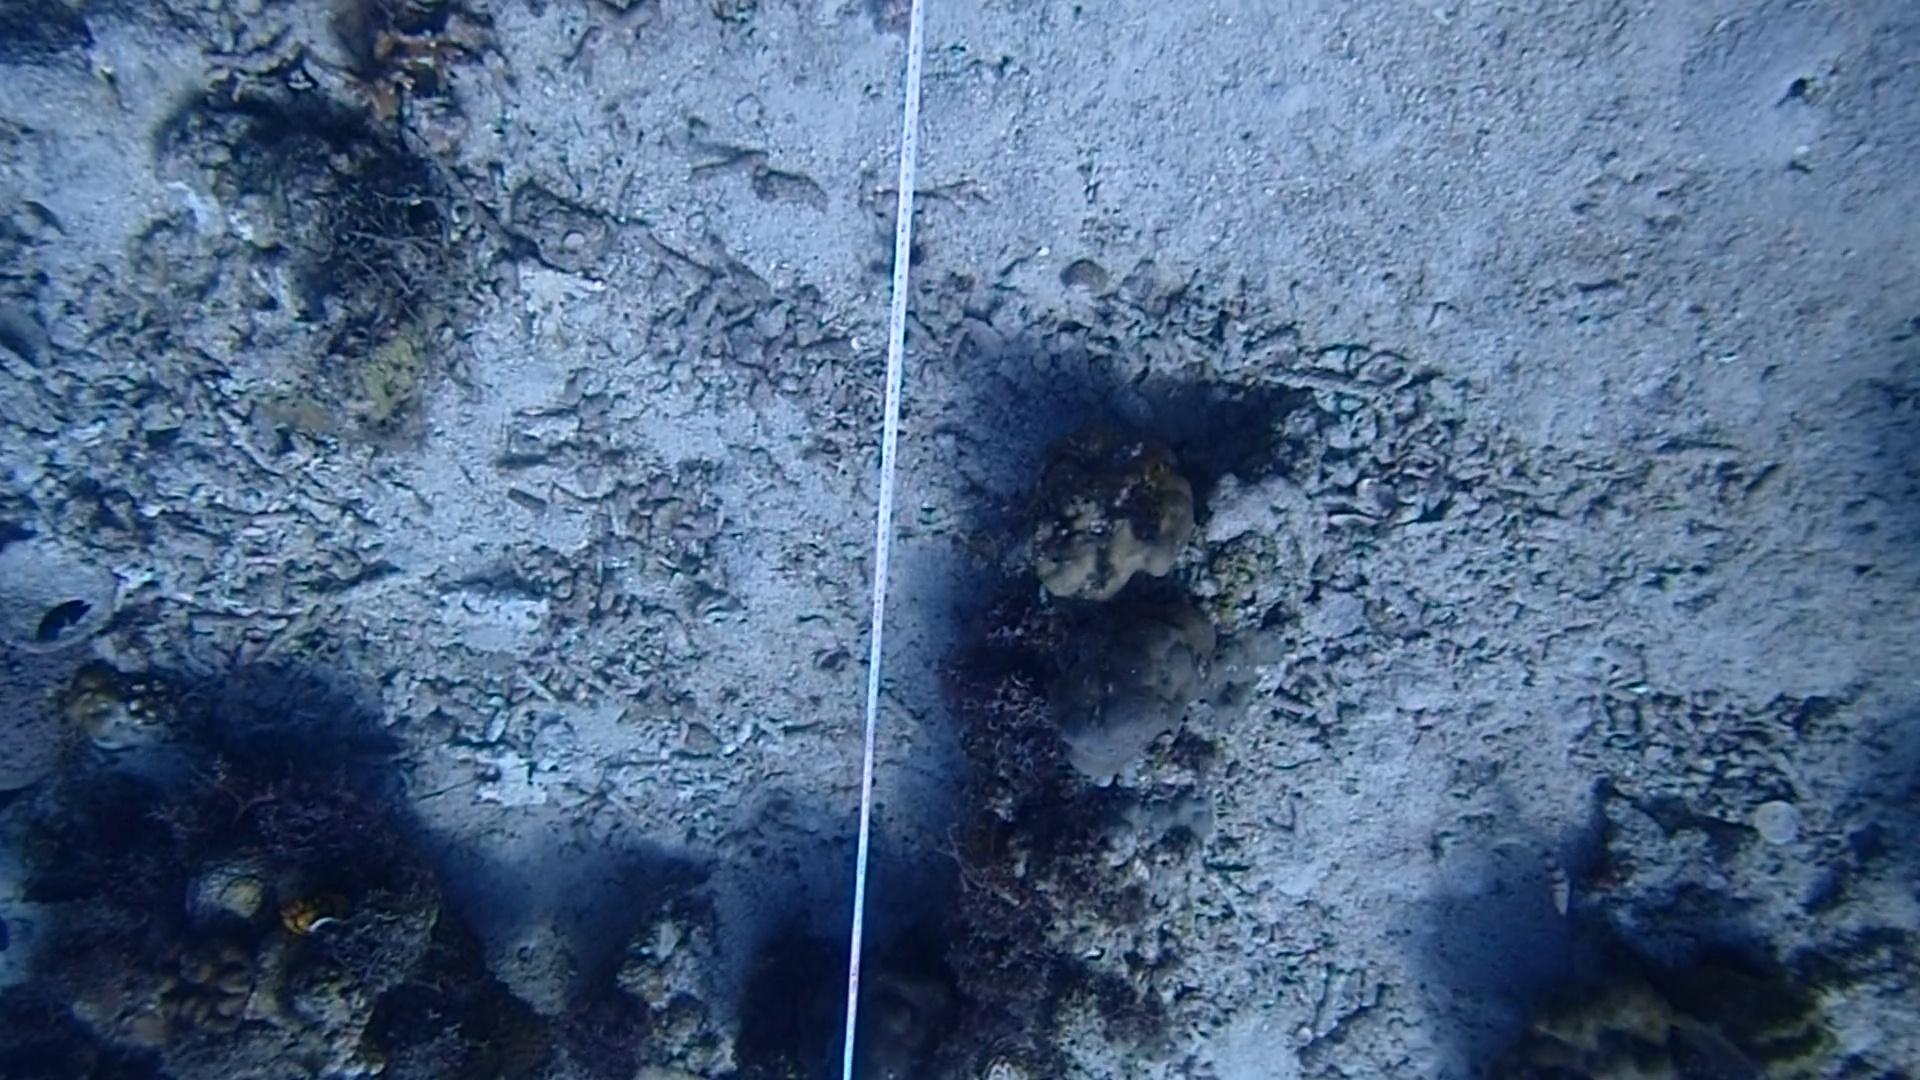Dark Fish: (24, 576, 95, 657)
Light Fish w Back Stripes: (1490, 818, 1585, 923)
